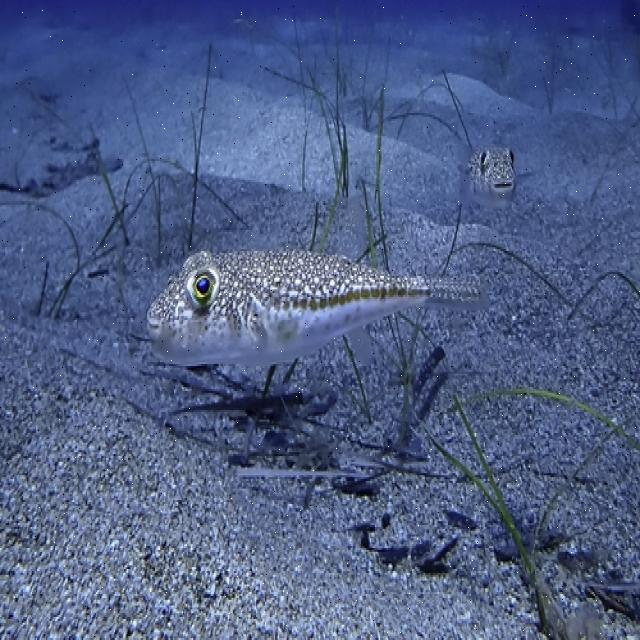Balik: (148, 252, 482, 365), (461, 146, 515, 208)
